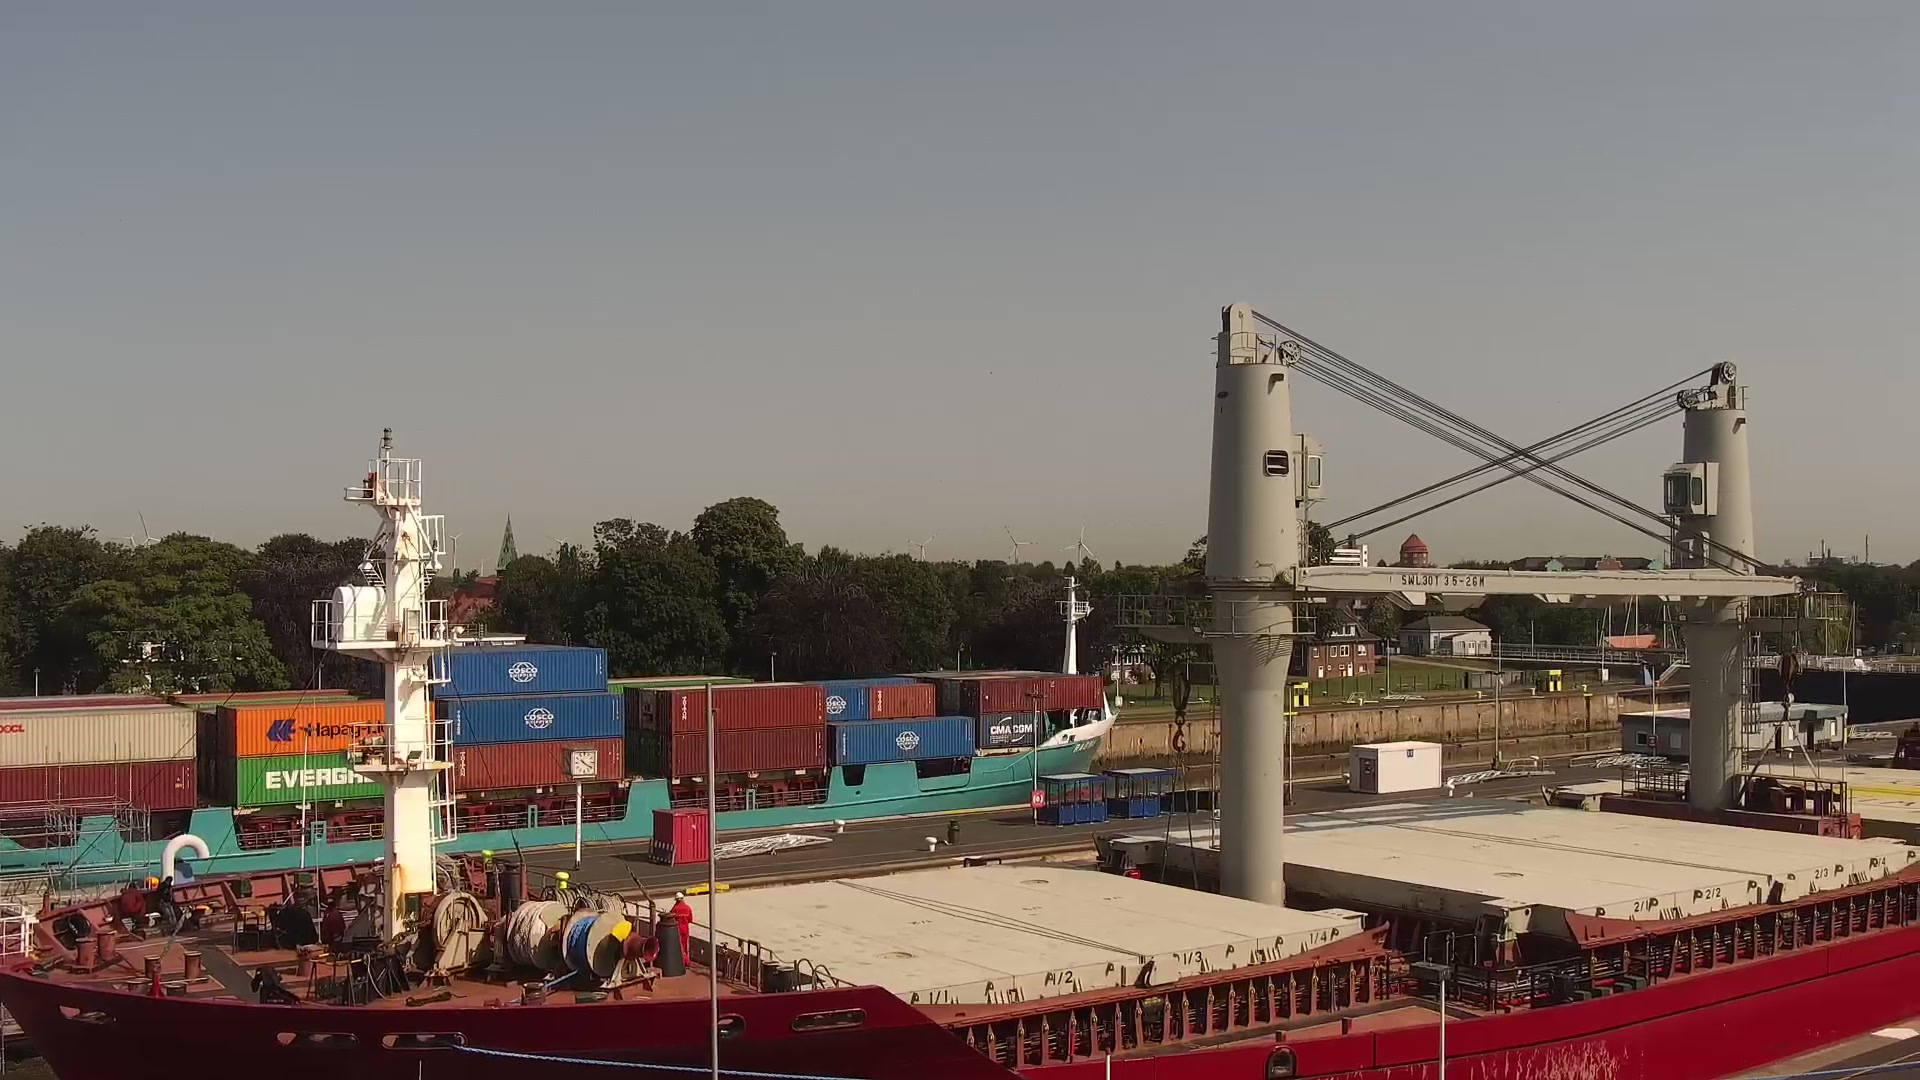human: (663, 892, 694, 959), (118, 881, 148, 933), (154, 875, 180, 931)
sea: (1, 302, 1919, 1080)
